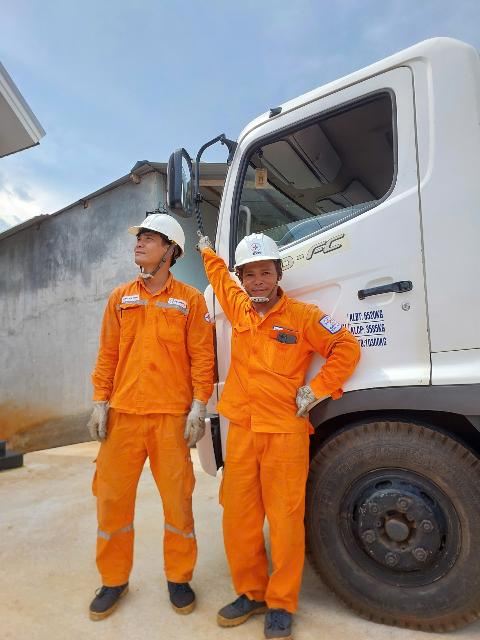gloves: (291, 381, 328, 430), (84, 398, 115, 448), (182, 400, 208, 453), (195, 229, 217, 255)
helmet: (110, 213, 193, 251), (228, 225, 294, 272)
shoes: (160, 565, 207, 620), (213, 583, 268, 627), (83, 576, 133, 624), (260, 601, 310, 640)
